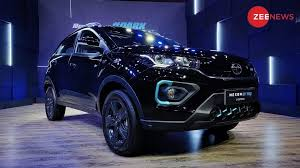Tata Nexon: (40, 23, 262, 159)
